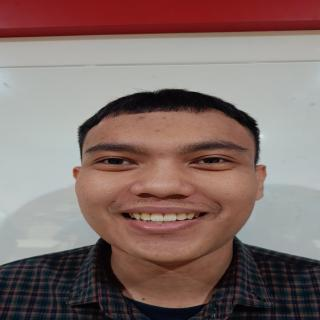Senang: (74, 107, 269, 269)
